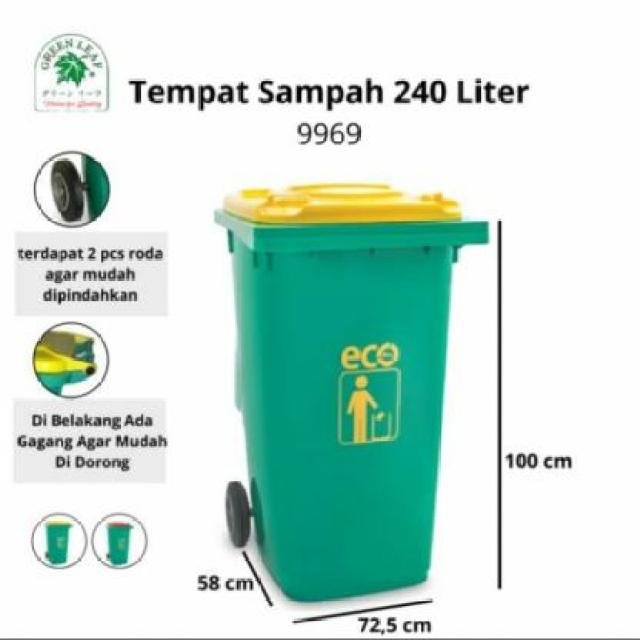garbage container: (213, 176, 492, 606)
